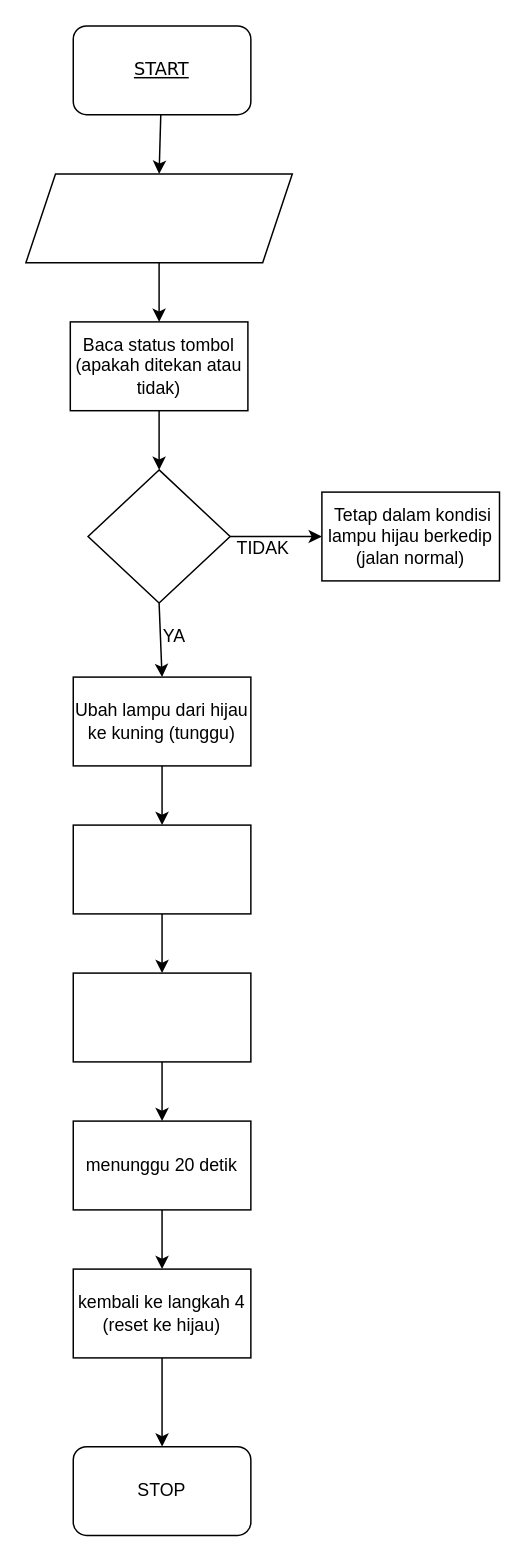
Some shapes in this 525 by 1561 pixel diagram are drawn without their labels. The centre of each missing label's shape, as x and y in pixels:
Apakah tombol ditekan?: the point at 158,535
Inisialisasi pin untuk tombol (input) dan lampu lalu lintas (output): the point at 158,217
tunggu 2 detik: the point at 161,869
Ubah lampu dari kuning ke merah (stop): the point at 161,1017
